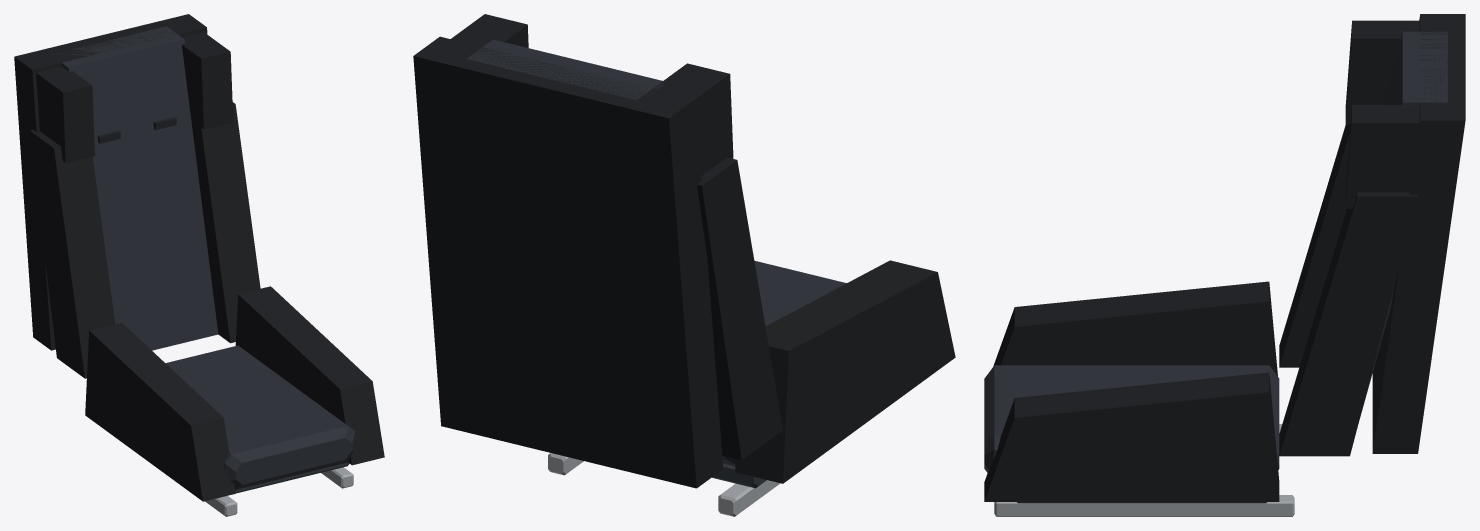
The model's file is brute_500.glb.
The picture shows the model from 3 angles, left to right: view 1: azimuth 30°, elevation 25°; view 2: azimuth 150°, elevation 25°; view 3: azimuth 270°, elevation 25°; orthographic projection. The views are drawn at different scales.
Visible parts, largest first — view 1: model; view 2: model; view 3: model.
Part boxes in pixels (x1=…): model: x1=14, y1=14, x2=384, y2=516; model: x1=413, y1=14, x2=955, y2=516; model: x1=984, y1=14, x2=1465, y2=516.
Size of the model in its own units: 0.5201 by 0.9 by 0.9542.
4 materials, 1 textured.
